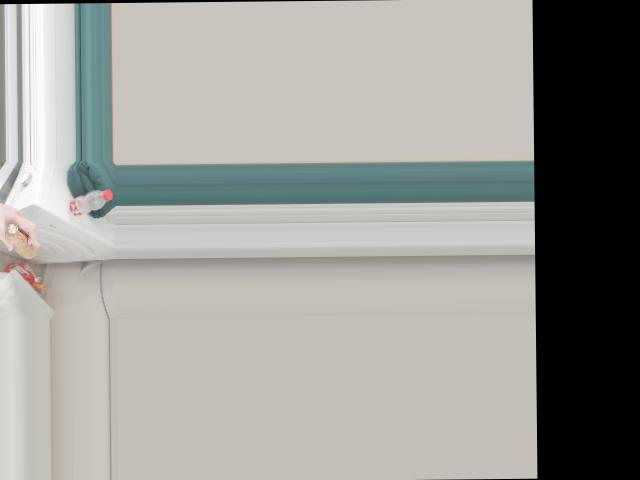sweet_potato: (0, 219, 40, 257)
